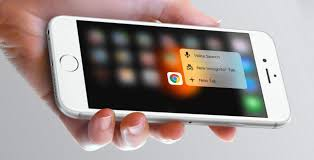Cell Phone: (48, 14, 290, 127)
